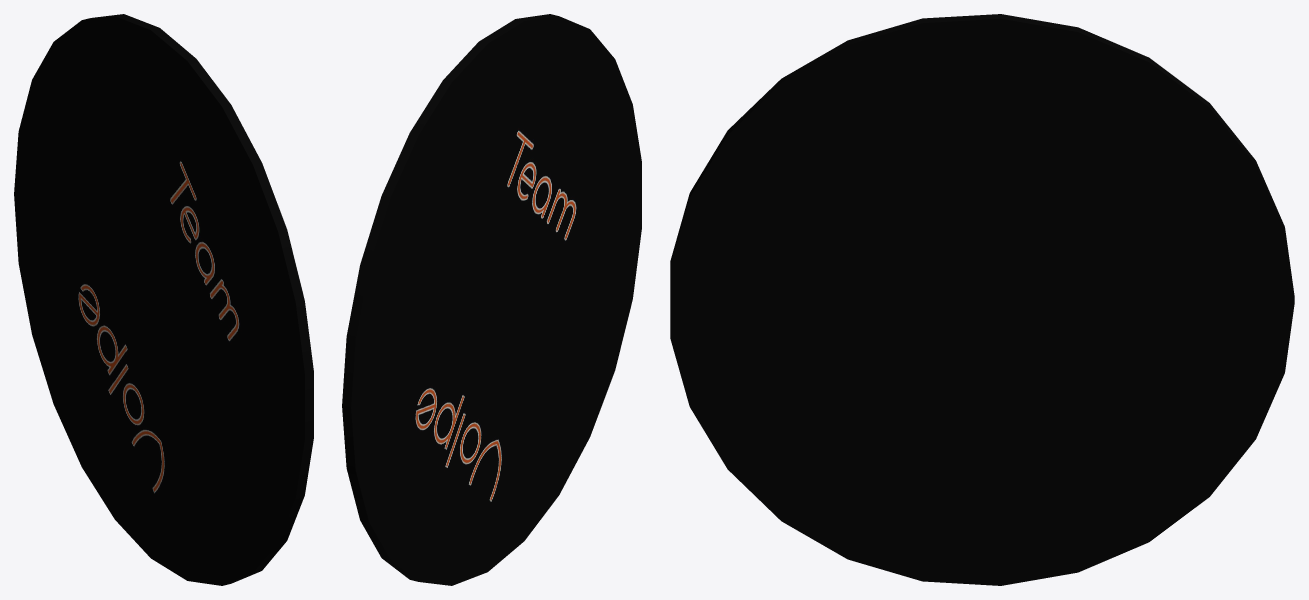
File: ruotaBlackTextured-L.obj
3 views of the same model, side by side, from view 1: azimuth 30°, elevation 25°; view 2: azimuth 150°, elevation 25°; view 3: azimuth 270°, elevation 25° (orthographic). The views are drawn at different scales.
Visible parts, largest first — view 1: Geometry.001; view 2: Geometry.001; view 3: Geometry.001.
Part boxes in pixels (x1,y1,x2,y2): Geometry.001: (14, 14, 313, 585); Geometry.001: (342, 14, 641, 585); Geometry.001: (670, 14, 1294, 585).
Size of the model in its own units: 0.00897 by 0.499 by 0.498.
2 materials, 2 textured.
